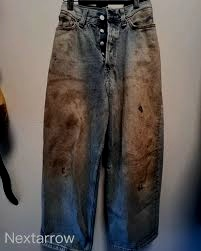earth: (129, 65, 156, 177), (46, 79, 80, 156)
